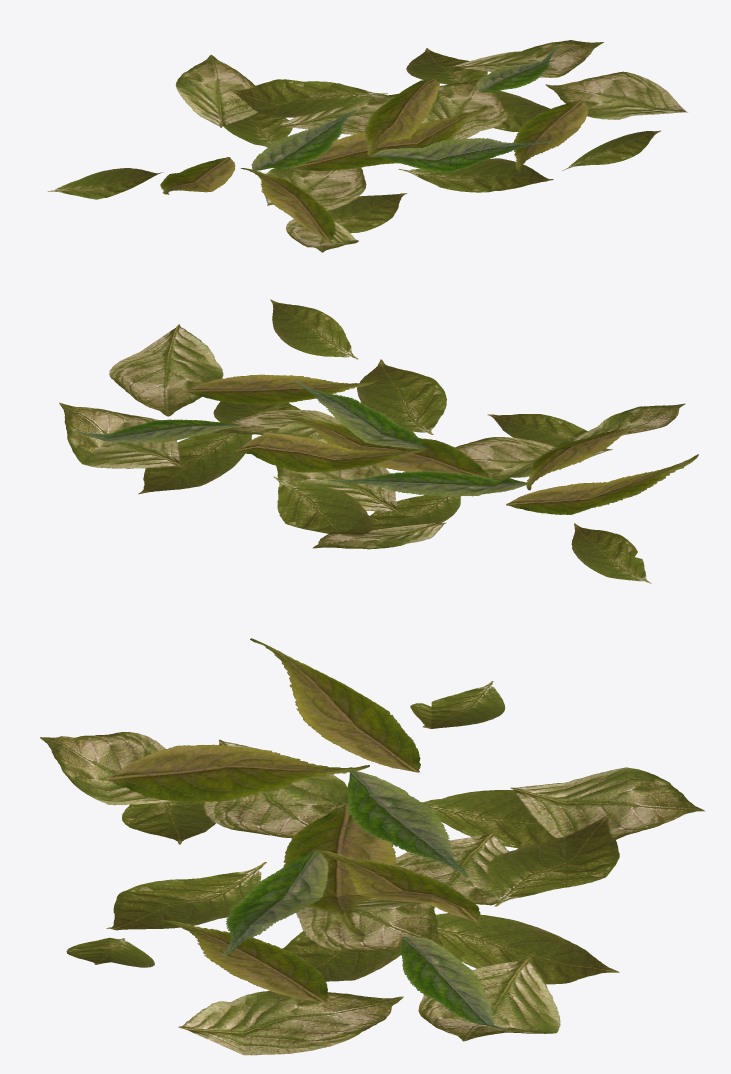
The model's file is leaves_green.fbx.
3 renders of one model, top to bottom at view 1: azimuth 30°, elevation 25°; view 2: azimuth 150°, elevation 25°; view 3: azimuth 270°, elevation 25°, orthographic. The views are drawn at different scales.
Parts seen in each view (by area): view 1: green_leaves; view 2: green_leaves; view 3: green_leaves.
Boxes of the visible parts, x1,y1,x2,y2 form: green_leaves: [47, 40, 687, 252]; green_leaves: [59, 299, 698, 583]; green_leaves: [40, 638, 704, 1055].
Size of the model in its own units: 33.91 by 2.83 by 24.83.
